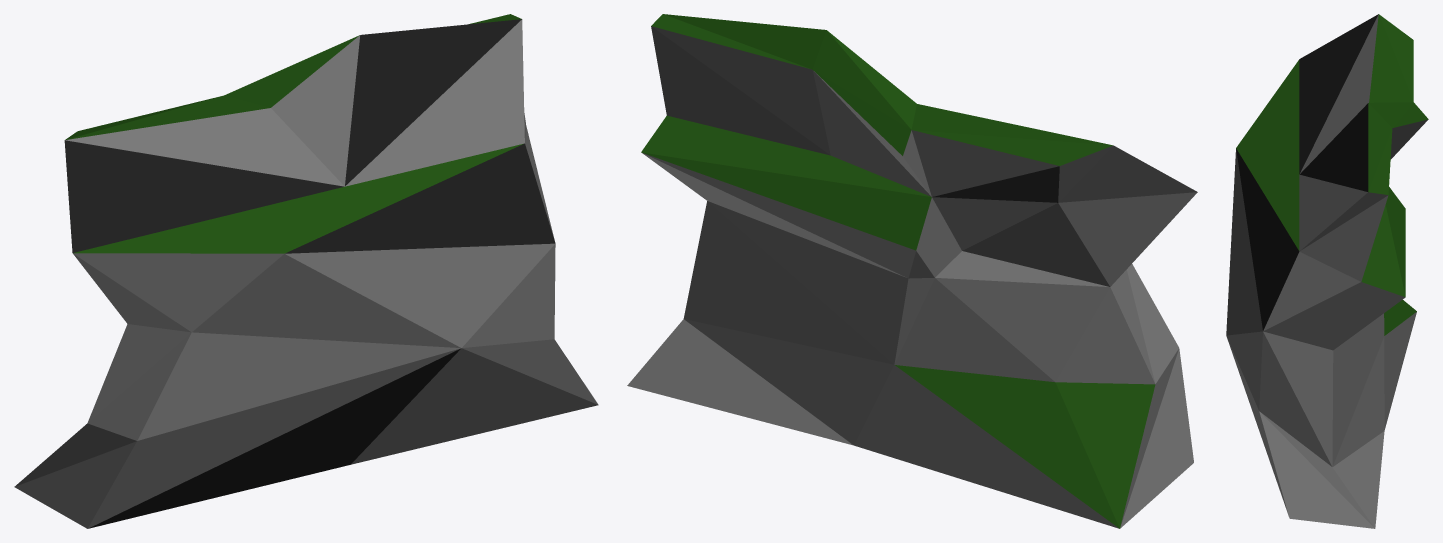
The model's file is Stone2_9.fbx.
The picture shows the model from 3 angles, left to right: view 1: azimuth 30°, elevation 25°; view 2: azimuth 150°, elevation 25°; view 3: azimuth 270°, elevation 25°; orthographic projection. The views are drawn at different scales.
Parts seen in each view (by area): view 1: Stone2_9; view 2: Stone2_9; view 3: Stone2_9.
Boxes of the visible parts, x1,y1,x2,y2 form: Stone2_9: (14,14,598,528); Stone2_9: (627,14,1197,528); Stone2_9: (1226,14,1428,528).
Size of the model in its own units: 127 by 92.01 by 49.07.
